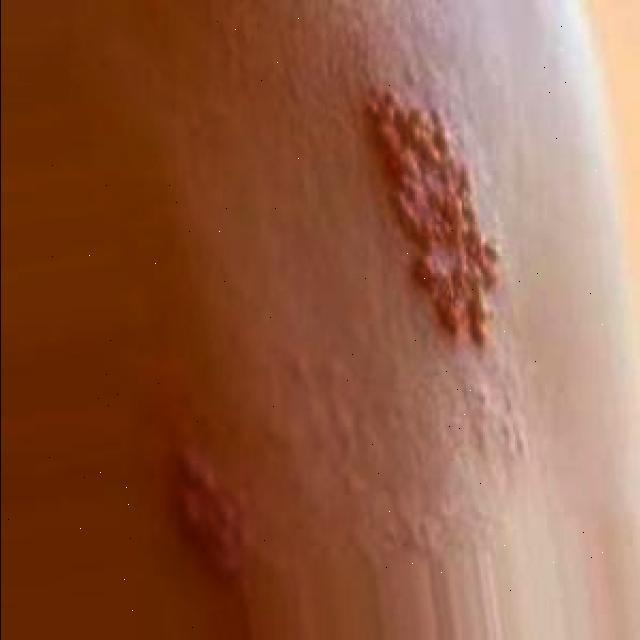Shingles: (364, 83, 505, 349)
